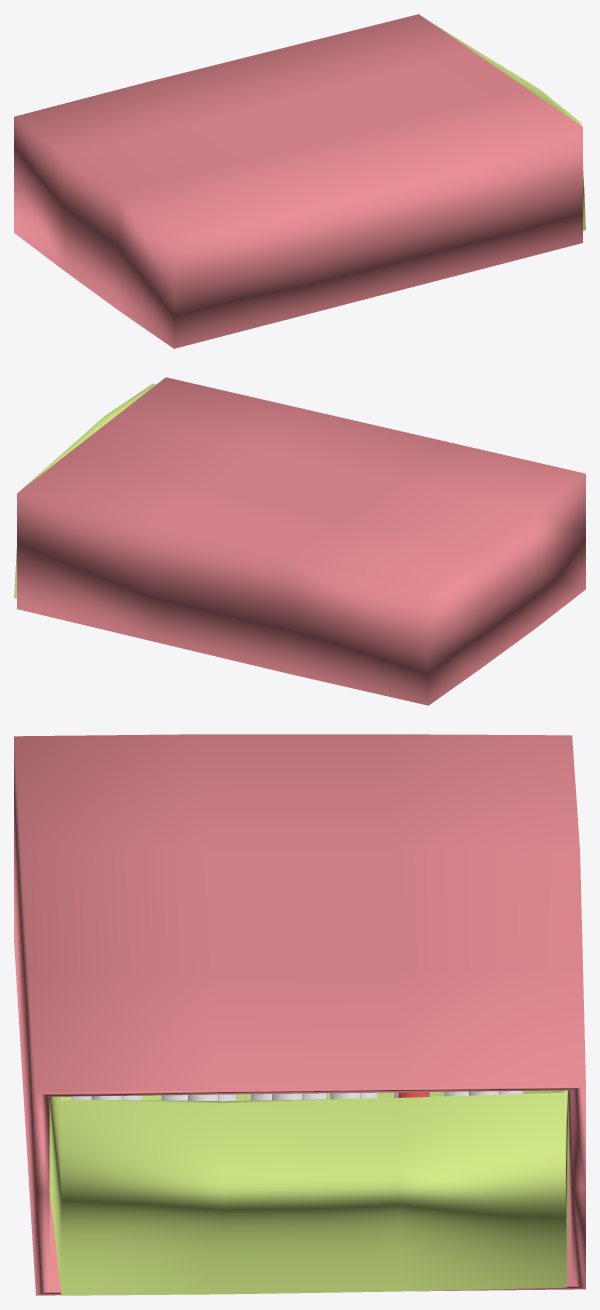
The model's file is MatchBoxRiggedNONTEXTURESfbx.fbx.
3 views of the same model, one above another, from view 1: azimuth 30°, elevation 25°; view 2: azimuth 150°, elevation 25°; view 3: azimuth 270°, elevation 25° (orthographic). The views are drawn at different scales.
Parts seen in each view (by area): view 1: Case, Undercase; view 2: Case, Undercase; view 3: Case, Undercase.
Boxes of the visible parts, bbox=[...] form: Case: bbox=[14, 14, 582, 348]; Undercase: bbox=[428, 20, 585, 230]; Case: bbox=[17, 377, 585, 705]; Undercase: bbox=[14, 383, 156, 598]; Case: bbox=[14, 734, 585, 1295]; Undercase: bbox=[49, 1090, 568, 1295].
Bounding box in the file's own units: 77.93 × 20.2 × 51.39.
